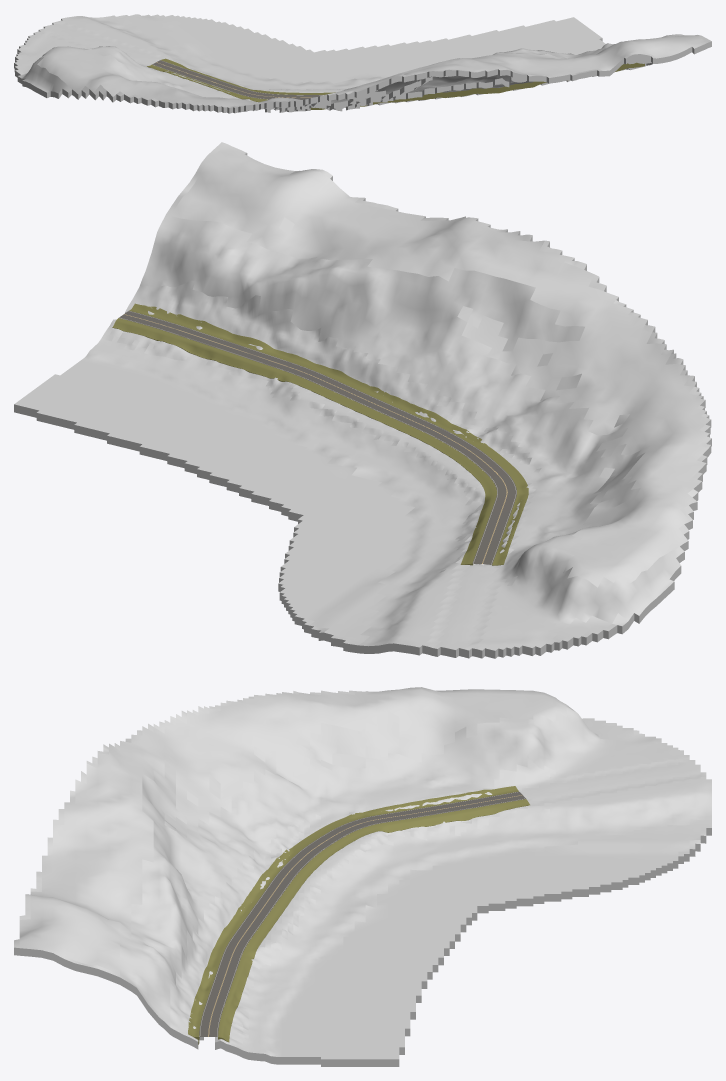
File: conz_109.glb
The picture shows the model from 3 angles, top to bottom: view 1: azimuth 30°, elevation 25°; view 2: azimuth 150°, elevation 25°; view 3: azimuth 270°, elevation 25°; orthographic projection. The views are drawn at different scales.
Parts seen in each view (by area): view 1: terrain109, verge109L, road109, verge109R; view 2: terrain109, road109, verge109R, verge109L; view 3: terrain109, road109, verge109R, verge109L.
Part boxes in pixels (<box>): terrain109: <box>14,14,711,113</box>; verge109L: <box>147,62,644,109</box>; road109: <box>152,60,322,99</box>; verge109R: <box>161,58,335,94</box>; terrain109: <box>14,142,711,658</box>; road109: <box>119,311,516,564</box>; verge109R: <box>112,318,496,565</box>; verge109L: <box>129,303,528,565</box>; terrain109: <box>14,687,711,1066</box>; road109: <box>199,791,525,1036</box>; verge109R: <box>218,799,529,1042</box>; verge109L: <box>188,786,518,1044</box>.
Bounding box in the file's own units: 278 × 53.04 × 250.
